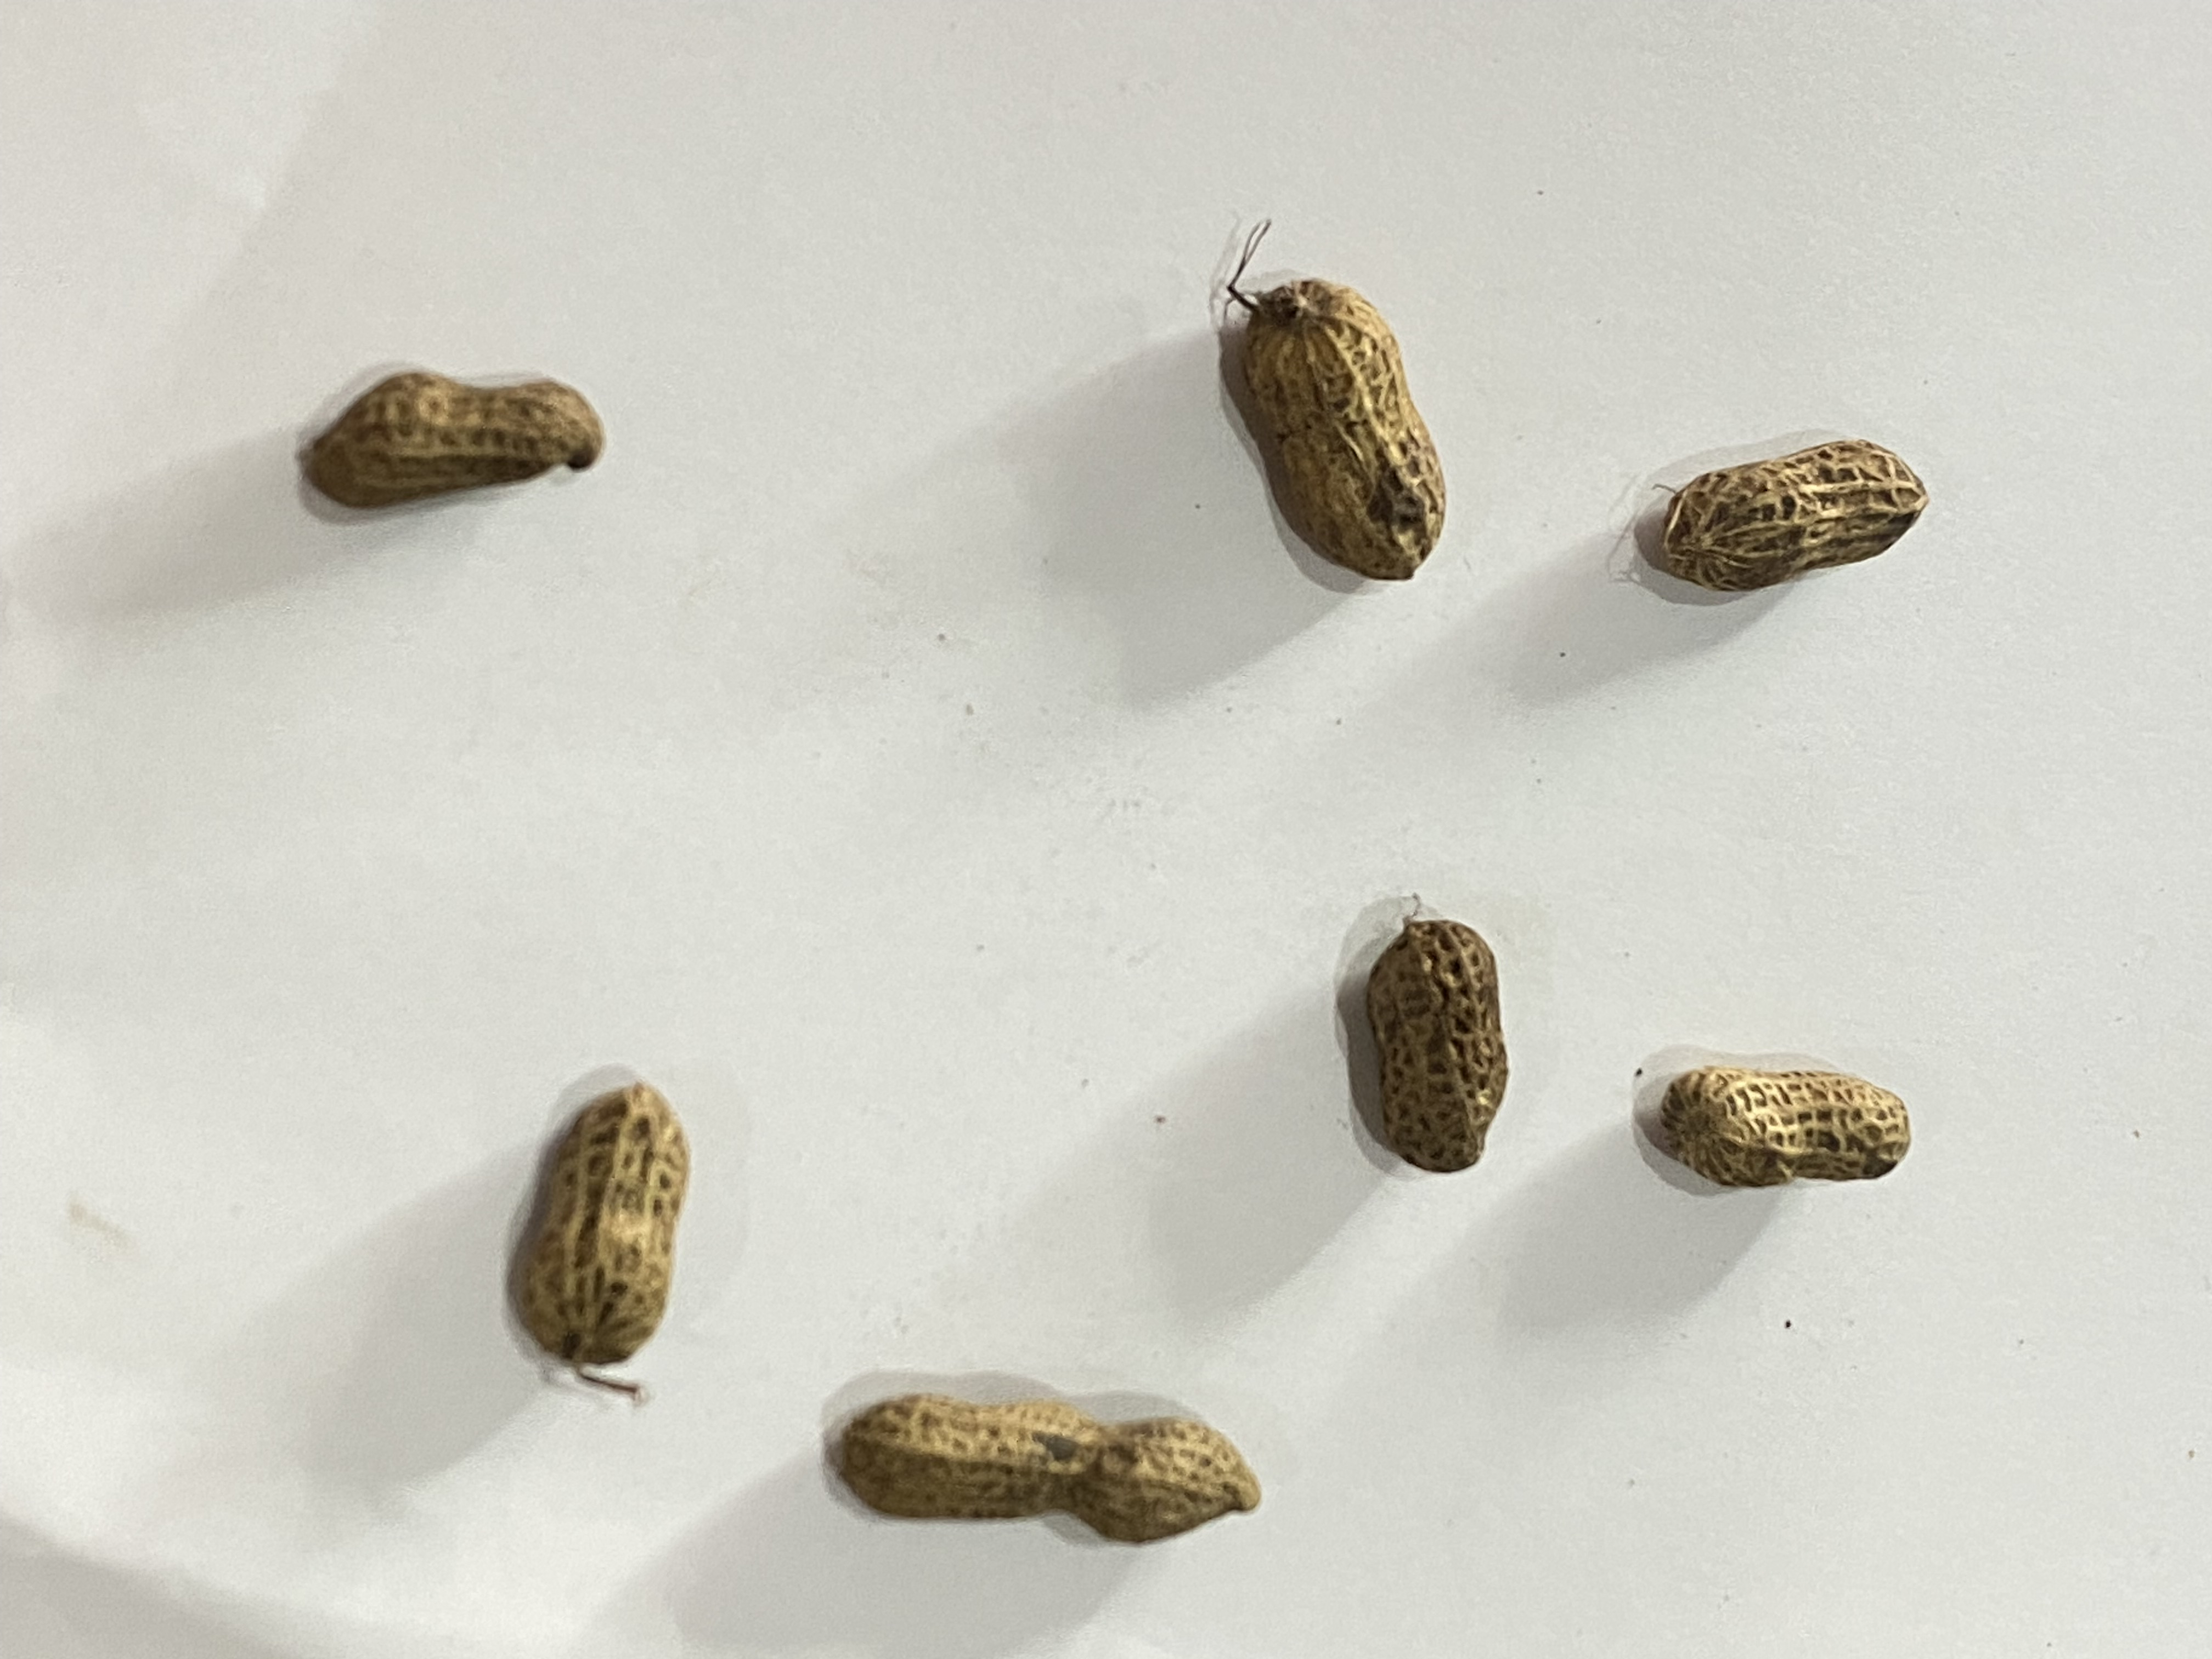kacang2: (1167, 178, 1479, 633), (449, 1056, 732, 1432), (226, 312, 634, 528), (1341, 861, 1564, 1199), (1642, 416, 2008, 606), (1648, 1061, 1982, 1222)
kacang3: (782, 1377, 1298, 1554)
